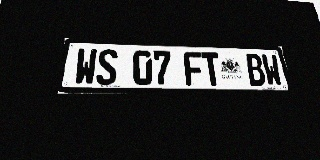0: (133, 50, 152, 85)
7: (152, 51, 172, 86)
B: (244, 53, 267, 86)
F: (183, 51, 204, 86)
S: (96, 49, 118, 85)
T: (201, 52, 222, 86)
W: (74, 48, 97, 85), (261, 54, 284, 86)
